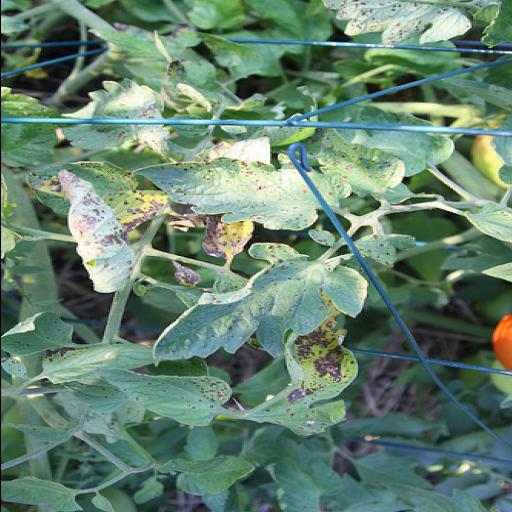Septoria: (149, 240, 370, 372), (130, 156, 352, 232), (249, 295, 359, 439), (52, 166, 139, 294), (24, 159, 170, 231), (52, 78, 170, 150), (92, 366, 236, 425), (318, 0, 479, 46), (309, 130, 407, 202), (40, 341, 158, 387), (158, 454, 254, 498), (0, 310, 77, 357), (0, 473, 82, 512), (200, 214, 256, 258), (350, 232, 418, 268), (462, 202, 512, 244)
